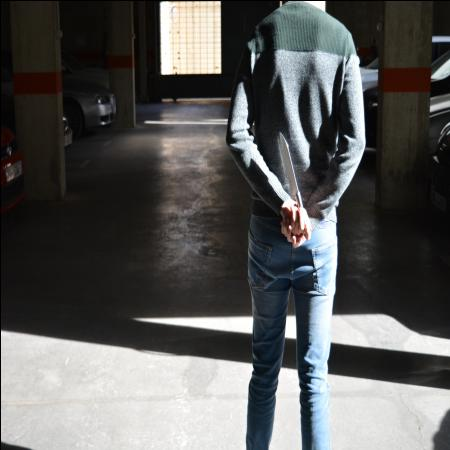long weapon: (277, 127, 304, 208)
